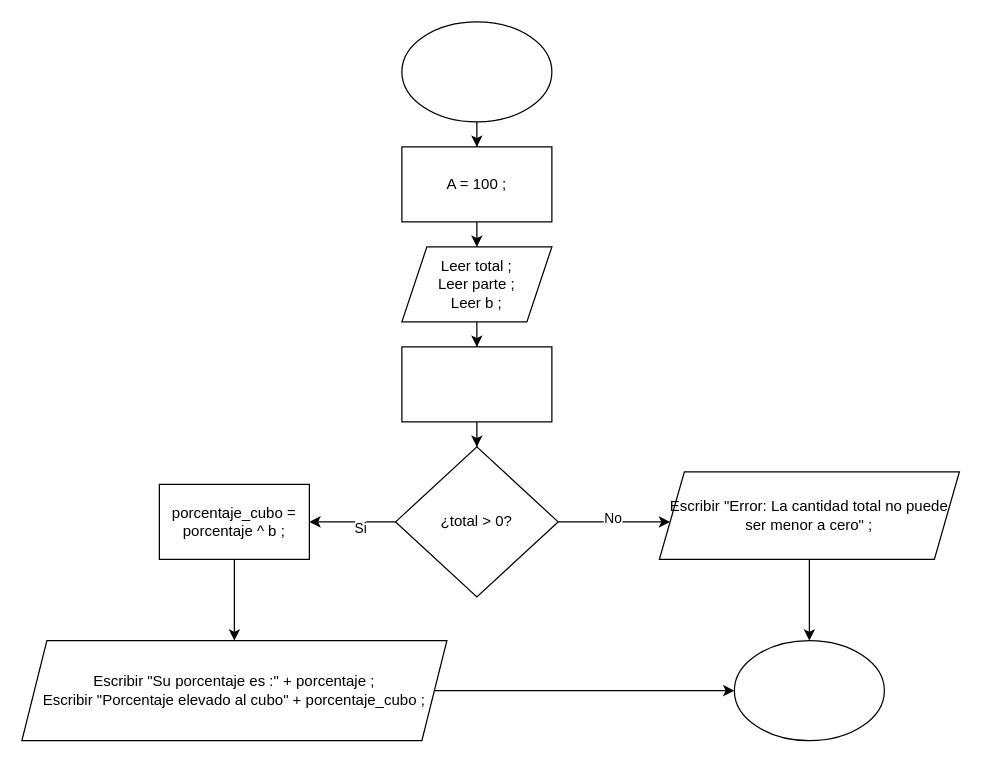
Some shapes in this 981 by 763 pixel diagram are drawn without their labels. Here are the shapes that lost their labels. From the top down, the centre of each, then its label:
At point (476, 71): "Incio".
At point (476, 384): "porcentaje = (parte / total * A) ;".
At point (808, 690): "Fin".
